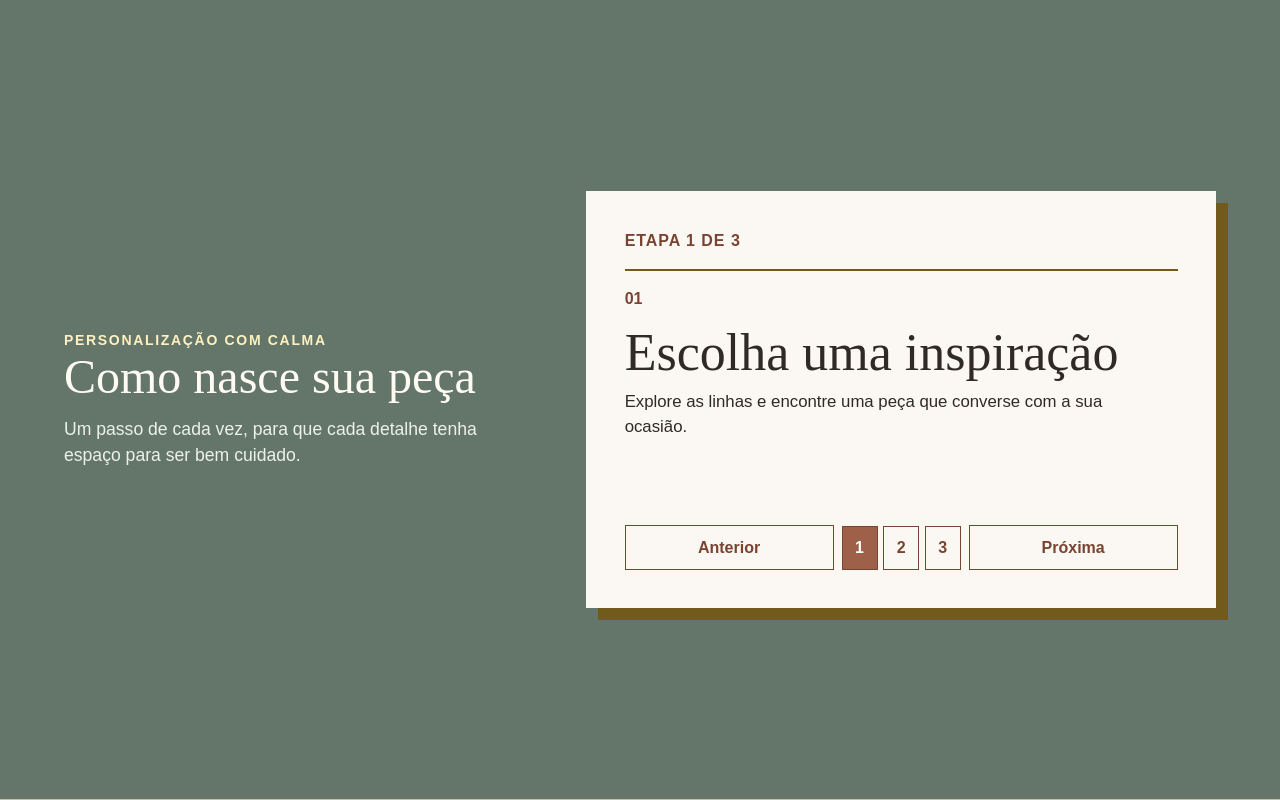
Test: ProcessSteps › avança pela jornada da inspiração ao alinhamento no WhatsApp
The image size is (1280, 800).
Expected: the heading "Como nasce sua peça" is shown, left=64, top=351, right=484, bottom=404
Expected: the heading "Escolha uma inspiração" is shown, left=625, top=327, right=1178, bottom=379
Click the button with aria-label "Próxima etapa": x=1073, y=548 left=969, top=525, right=1178, bottom=570
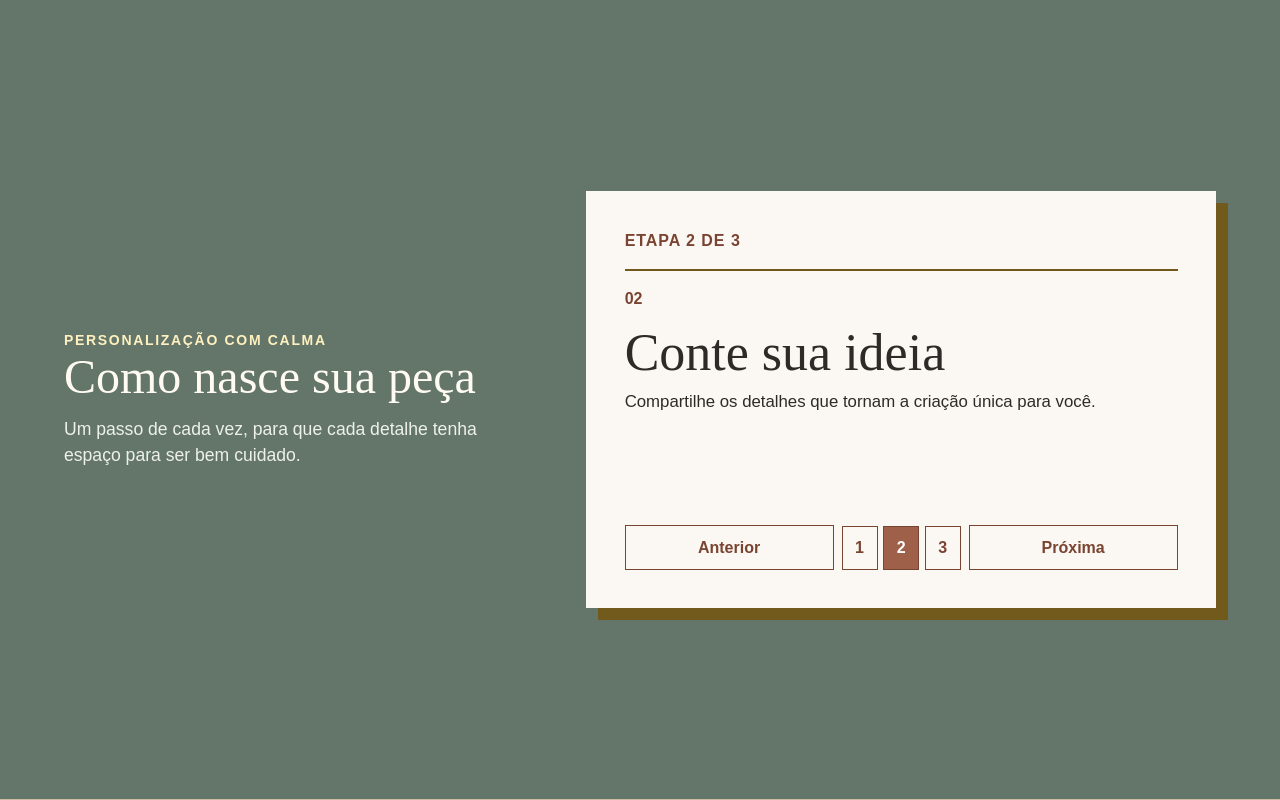
Expected: the heading "Conte sua ideia" is shown, left=625, top=324, right=945, bottom=381
Click the button with aria-label "Próxima etapa": x=1073, y=548 left=969, top=525, right=1178, bottom=570
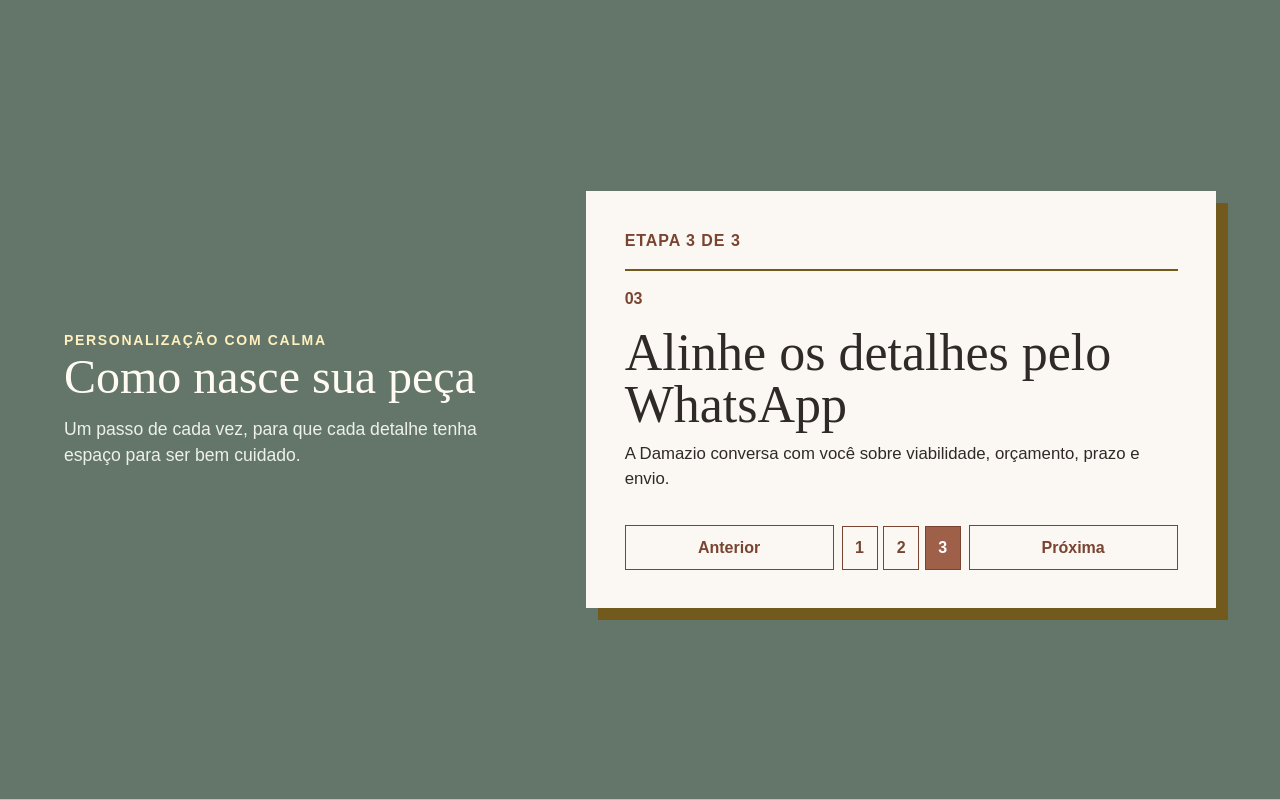
Expected: the heading "Alinhe os detalhes pelo WhatsApp" is shown, left=625, top=327, right=1178, bottom=431
